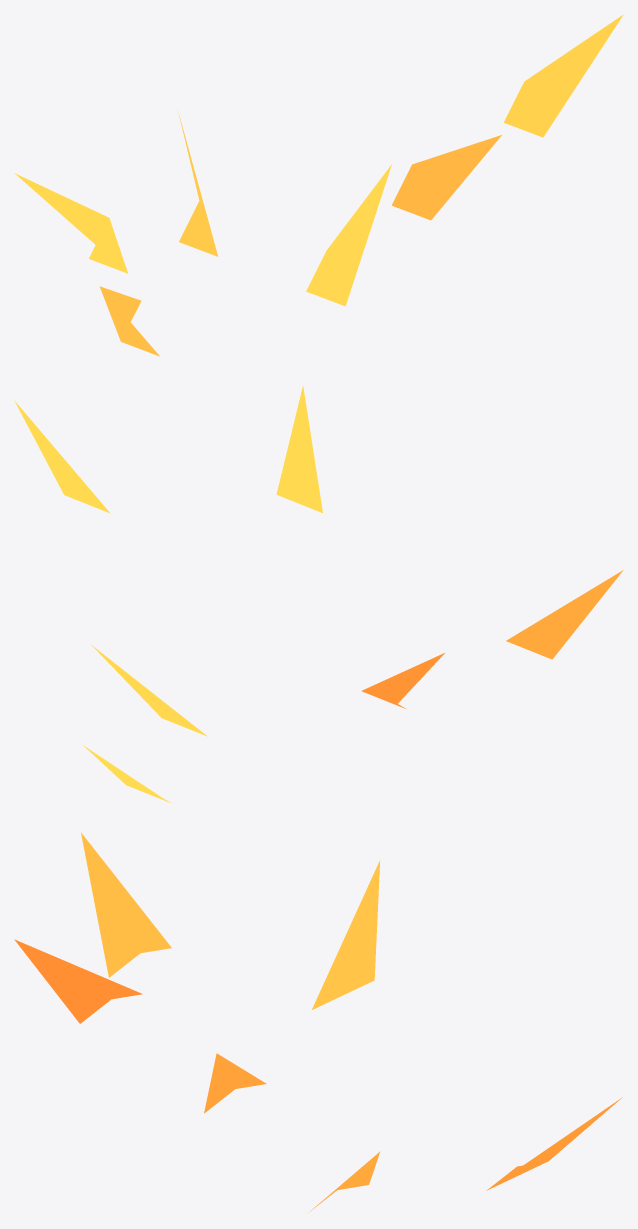
File: contact_ember.glb
3 renders of one model, top to bottom at view 1: azimuth 30°, elevation 25°; view 2: azimuth 150°, elevation 25°; view 3: azimuth 270°, elevation 25°, orthographic. The views are drawn at different scales.
Parts seen in each view (by area): view 1: contact_ember sparse contact artwork; view 2: contact_ember sparse contact artwork; view 3: contact_ember sparse contact artwork.
Part boxes in pixels (<box>): contact_ember sparse contact artwork: <box>14,14,623,356</box>; contact_ember sparse contact artwork: <box>14,385,623,803</box>; contact_ember sparse contact artwork: <box>14,832,622,1212</box>.
Bounding box in the file's own units: 0.7012 × 0.302 × 0.5801.
